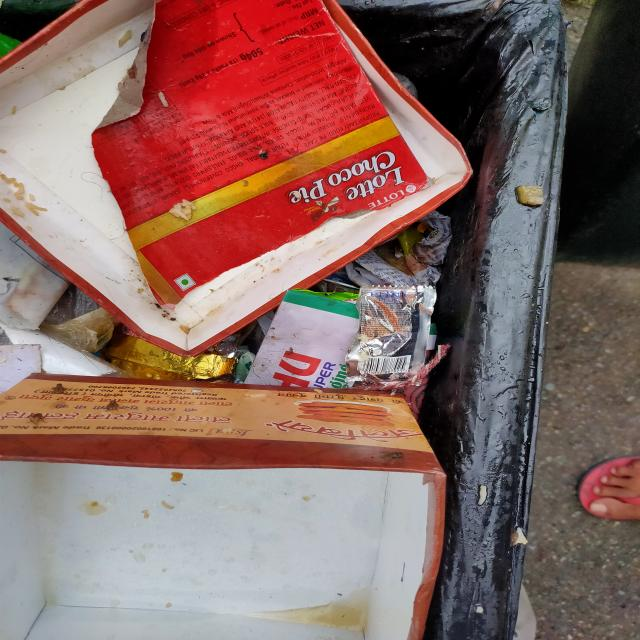B3: (9, 0, 435, 350), (11, 374, 434, 640), (370, 288, 435, 379)
